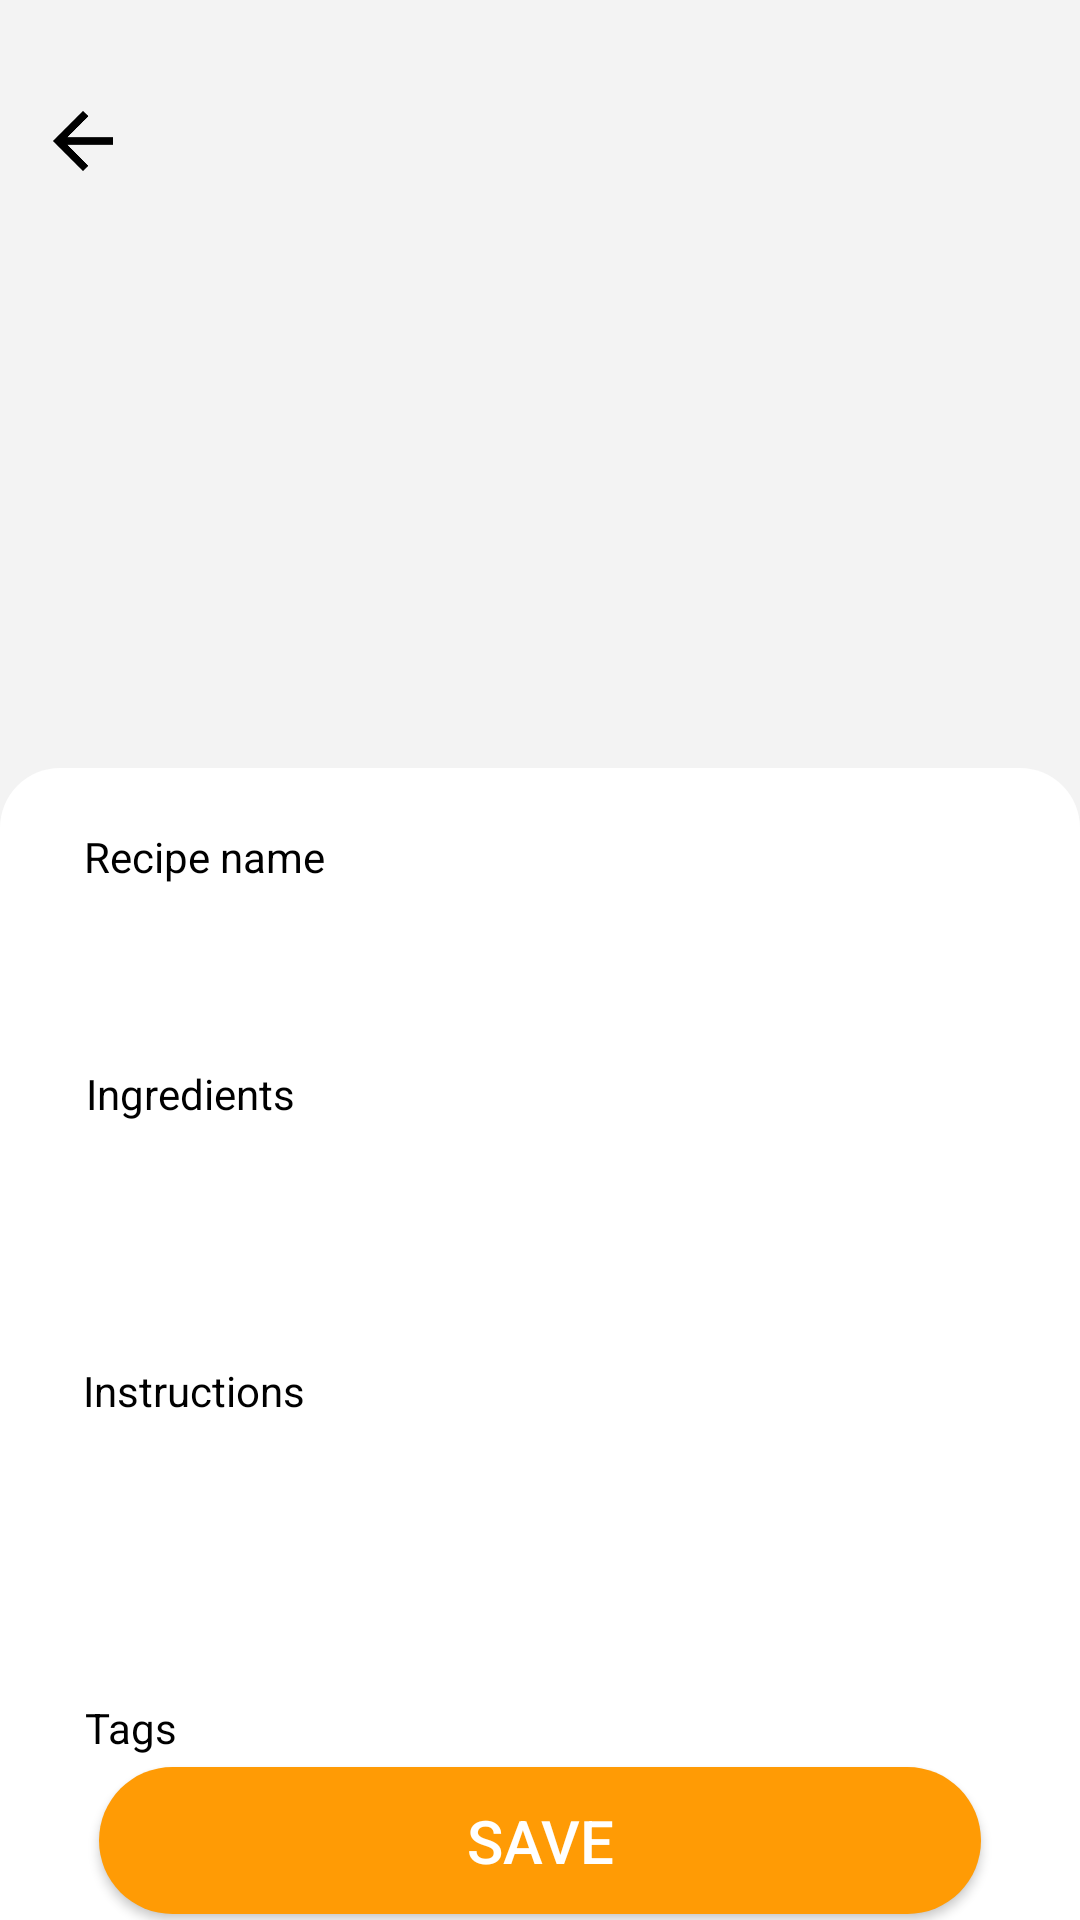

Icons on this 1080px×1920px Android screen, each with the point to tap as [x,y]:
android arrow back: [83,141]
